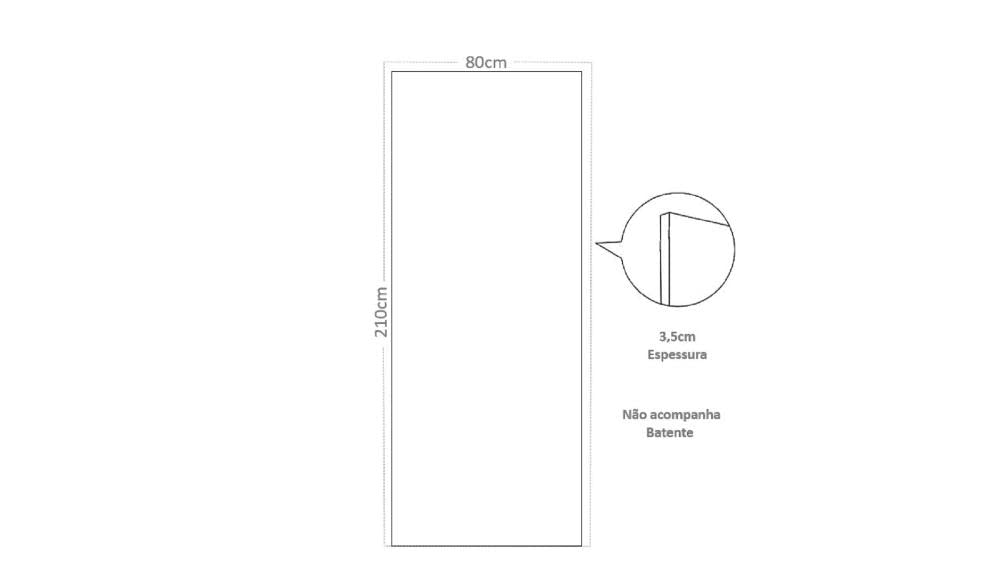210cm: (375, 288, 387, 337)
3,5em: (660, 332, 695, 343)
80cm: (466, 56, 506, 68)
Batente: (647, 427, 693, 437)
Espessura: (648, 350, 707, 362)
acompanha: (650, 409, 720, 421)
